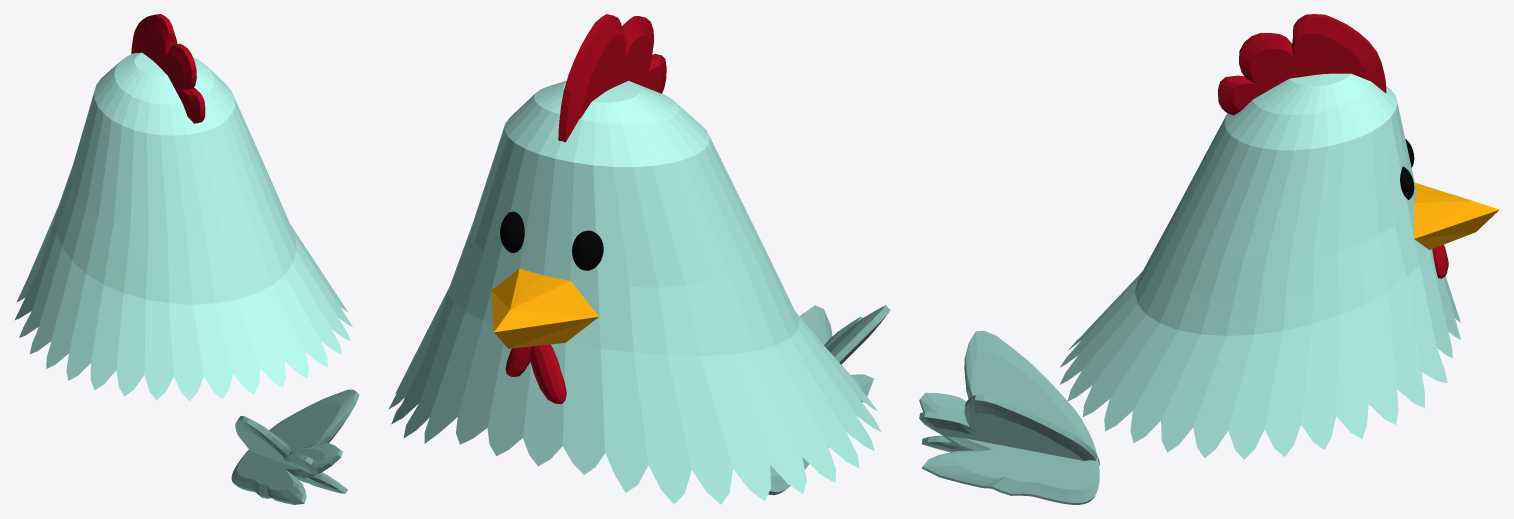
Rendered from chicken_head.glb.
3 renders of one model, left to right at view 1: azimuth 30°, elevation 25°; view 2: azimuth 150°, elevation 25°; view 3: azimuth 270°, elevation 25°, orthographic. The views are drawn at different scales.
Parts seen in each view (by area): view 1: head.001; view 2: head.001; view 3: head.001.
Boxes of the visible parts, x1,y1,x2,y2 form: head.001: [15, 14, 359, 504]; head.001: [388, 14, 890, 504]; head.001: [919, 14, 1499, 504].
Size of the model in its own units: 0.0801 by 0.1027 by 0.1138.
